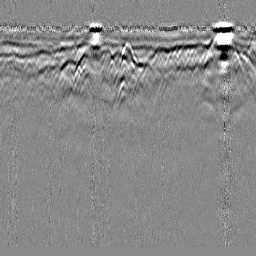cavity: (119, 41, 137, 69)
